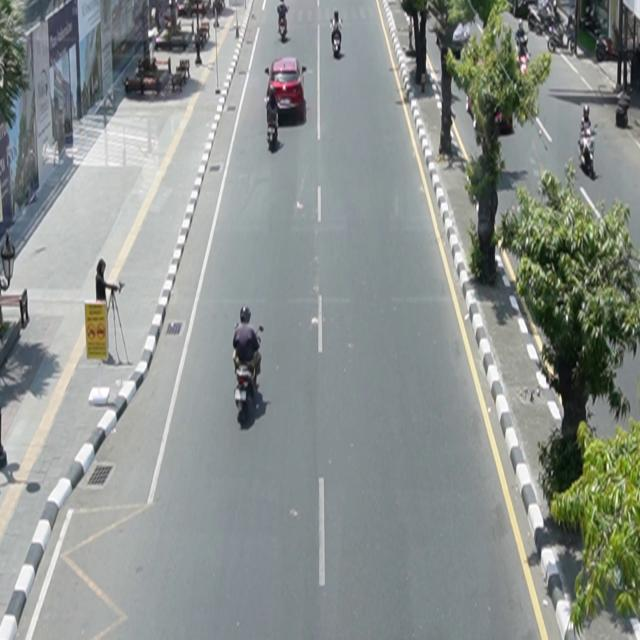car: (266, 57, 307, 122)
